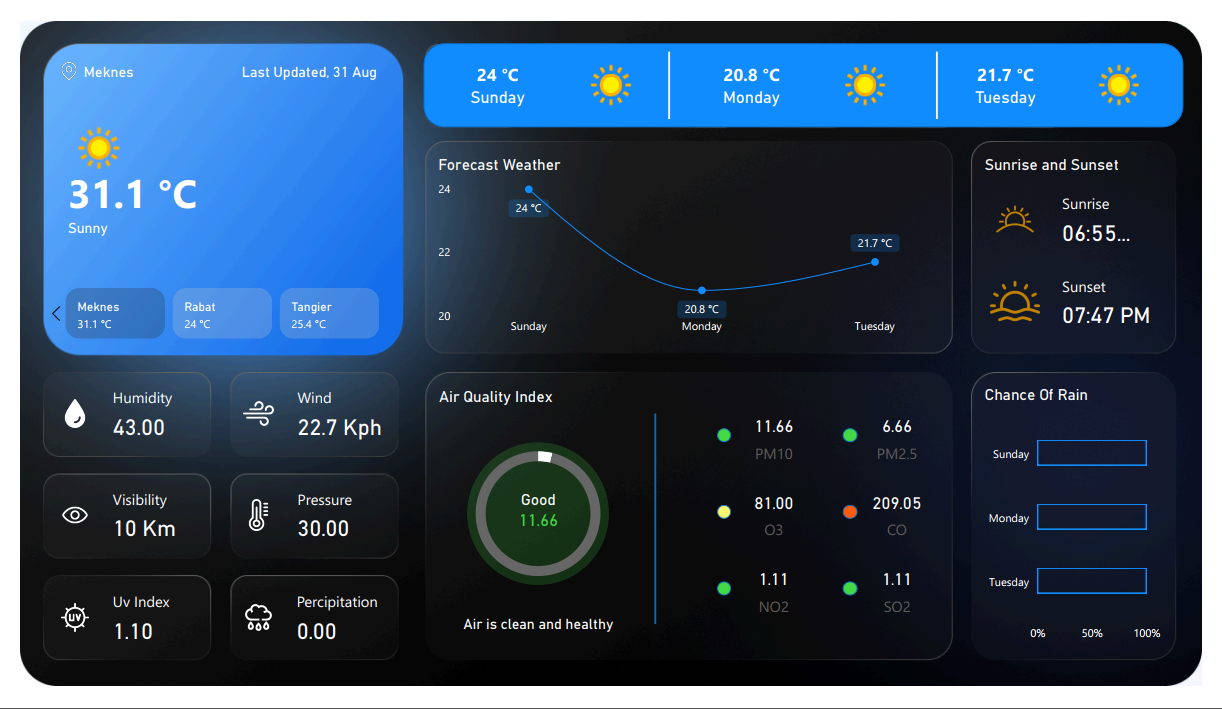

Layout of this report page (visuals, bound fields, positions):
{"tool":"powerbi","page":{"name":"Weather Forcast","canvas":[1280,720],"ordinal":0},"visuals":[{"type":"shape","box":[437.2,23.9,822.7,90.7],"z":0},{"type":"advancedSlicerVisual","fields":{"Values":["Locations.location.name"]},"box":[24,283.6,390.2,65.8],"z":1000},{"type":"shape","box":[52.4,155.6,142.2,55.1],"z":2000},{"type":"shape","box":[52.4,210.6,131.6,25.8],"z":3000},{"type":"shape","box":[69.3,41.8,100.4,23.1],"z":4000},{"type":"image","box":[39.1,32.1,27.6,42.7],"z":5000},{"type":"shape","box":[240,41.9,165.3,23.1],"z":6000},{"type":"cardVisual","fields":{"Data":["Min(Current.current.condition.icon)"]},"box":[29.2,81.3,94,84.9],"z":7000},{"type":"cardVisual","fields":{"Data":["Sum(Current.current.humidity)"]},"box":[33.1,384,168,82.3],"z":8000},{"type":"cardVisual","fields":{"Data":["_Measures.Wind_Speed"]},"box":[230,383.6,180,82.7],"z":9000},{"type":"cardVisual","fields":{"Data":["Sum(Current.current.precip_mm)"]},"box":[229.7,604.6,176,82.3],"z":10000},{"type":"cardVisual","fields":{"Data":["Sum(Current.current.pressure_in)"]},"box":[229.7,493.7,179.4,82.3],"z":11000},{"type":"cardVisual","fields":{"Data":["Sum(Current.current.uv)"]},"box":[33.1,604.6,168,82.3],"z":12000},{"type":"cardVisual","fields":{"Data":["_Measures.Visibility_in_Km"]},"box":[33.1,493.7,168,82.3],"z":13000},{"type":"cardVisual","title":"Sunrise and Sunset","fields":{"Data":["Min(ForcastDay.Sunrise_Date)","Min(ForcastDay.Sunset_Date)"]},"box":[1040,144.7,198.8,204.7],"z":14000},{"type":"advancedSlicerVisual","fields":{"Values":["ForcastDay.Day_Name"]},"box":[437.2,23.9,822.7,90.7],"z":15000},{"type":"lineChart","title":"Forecast Weather","fields":{"Y":["Sum(ForcastDay.forecast.forecastday.day.avgtemp_c)"],"Category":["ForcastDay.Day_Name"]},"box":[447.6,144.5,558.4,204.6],"z":16000},{"type":"hundredPercentStackedBarChart","title":"Chance Of Rain","fields":{"Category":["ForcastDay.Day_Name"],"Y":["Sum(ForcastDay.forecast.forecastday.day.daily_chance_of_rain)","_Measures.Left_Value_Rain_D"]},"box":[1040.2,393.6,199.3,287.4],"z":17000},{"type":"card","fields":{"Values":["Sum(Current.current.air_quality.pm2_5)"]},"box":[906.6,425,86,61.7],"z":18000},{"type":"card","fields":{"Values":["Sum(Current.current.air_quality.so2)"]},"box":[906.6,590.9,86,61.7],"z":19000},{"type":"card","fields":{"Values":["Sum(Current.current.air_quality.co)"]},"box":[906.6,508,86,61.7],"z":20000},{"type":"card","fields":{"Values":["Sum(Current.current.air_quality.pm10)"]},"box":[775.1,425,83,61.7],"z":21000},{"type":"card","fields":{"Values":["Sum(Current.current.air_quality.no2)"]},"box":[775.1,590.9,83,61.7],"z":22000},{"type":"card","fields":{"Values":["Sum(Current.current.air_quality.o3)"]},"box":[775.1,508,83,61.7],"z":23000},{"type":"shape","box":[754.8,441.2,15.2,15.2],"z":24000},{"type":"shape","box":[754.8,524.1,15.2,15.2],"z":25000},{"type":"shape","box":[754.8,607.1,15.2,15.2],"z":26000},{"type":"shape","box":[891.4,441.2,15.2,15.2],"z":27000},{"type":"shape","box":[891.4,524.1,15.2,15.2],"z":28000},{"type":"shape","box":[891.4,607.1,15.2,15.2],"z":29000},{"type":"shape","box":[454.3,393.6,130.5,23.3],"z":30000},{"type":"shape","box":[483.7,456.3,154.8,154.8],"z":31000},{"type":"shape","box":[663.8,425,48.6,227.7],"z":32000},{"type":"donutChart","fields":{"Y":["Sum(Current.current.air_quality.pm10)","_Measures.MaxValue"]},"box":[455.3,449.3,211.5,182.1],"z":33000},{"type":"card","fields":{"Values":["Sum(Current.current.air_quality.pm10)"]},"box":[520.1,508,83,52.6],"z":34000},{"type":"shape","box":[465.5,622.3,192.3,58.7],"z":35000},{"type":"shape","box":[679.1,32.8,47.9,73.1],"z":36000},{"type":"shape","box":[968.8,32.8,47.9,73.1],"z":37000}]}

Visuals, with their boxes on the page's 1280x720 design canvas (x1, y1, x2, y2). These are canvas units, not pixel positions in the 1222x709 screenshot, which may show the page scaled, cropped or inside an application window:
shape: (left=437, top=24, right=1260, bottom=115)
advancedSlicerVisual - Locations.location.name: (left=24, top=284, right=414, bottom=349)
shape: (left=52, top=156, right=195, bottom=211)
shape: (left=52, top=211, right=184, bottom=236)
shape: (left=69, top=42, right=170, bottom=65)
image: (left=39, top=32, right=67, bottom=75)
shape: (left=240, top=42, right=405, bottom=65)
cardVisual - Min(Current.current.condition.icon): (left=29, top=81, right=123, bottom=166)
cardVisual - Sum(Current.current.humidity): (left=33, top=384, right=201, bottom=466)
cardVisual - _Measures.Wind_Speed: (left=230, top=384, right=410, bottom=466)
cardVisual - Sum(Current.current.precip_mm): (left=230, top=605, right=406, bottom=687)
cardVisual - Sum(Current.current.pressure_in): (left=230, top=494, right=409, bottom=576)
cardVisual - Sum(Current.current.uv): (left=33, top=605, right=201, bottom=687)
cardVisual - _Measures.Visibility_in_Km: (left=33, top=494, right=201, bottom=576)
"Sunrise and Sunset" cardVisual: (left=1040, top=145, right=1239, bottom=349)
advancedSlicerVisual - ForcastDay.Day_Name: (left=437, top=24, right=1260, bottom=115)
"Forecast Weather" lineChart: (left=448, top=144, right=1006, bottom=349)
"Chance Of Rain" hundredPercentStackedBarChart: (left=1040, top=394, right=1240, bottom=681)
card - Sum(Current.current.air_quality.pm2_5): (left=907, top=425, right=993, bottom=487)
card - Sum(Current.current.air_quality.so2): (left=907, top=591, right=993, bottom=653)
card - Sum(Current.current.air_quality.co): (left=907, top=508, right=993, bottom=570)
card - Sum(Current.current.air_quality.pm10): (left=775, top=425, right=858, bottom=487)
card - Sum(Current.current.air_quality.no2): (left=775, top=591, right=858, bottom=653)
card - Sum(Current.current.air_quality.o3): (left=775, top=508, right=858, bottom=570)
shape: (left=755, top=441, right=770, bottom=456)
shape: (left=755, top=524, right=770, bottom=539)
shape: (left=755, top=607, right=770, bottom=622)
shape: (left=891, top=441, right=907, bottom=456)
shape: (left=891, top=524, right=907, bottom=539)
shape: (left=891, top=607, right=907, bottom=622)
shape: (left=454, top=394, right=585, bottom=417)
shape: (left=484, top=456, right=638, bottom=611)
shape: (left=664, top=425, right=712, bottom=653)
donutChart - Sum(Current.current.air_quality.pm10) x _Measures.MaxValue: (left=455, top=449, right=667, bottom=631)
card - Sum(Current.current.air_quality.pm10): (left=520, top=508, right=603, bottom=561)
shape: (left=466, top=622, right=658, bottom=681)
shape: (left=679, top=33, right=727, bottom=106)
shape: (left=969, top=33, right=1017, bottom=106)
